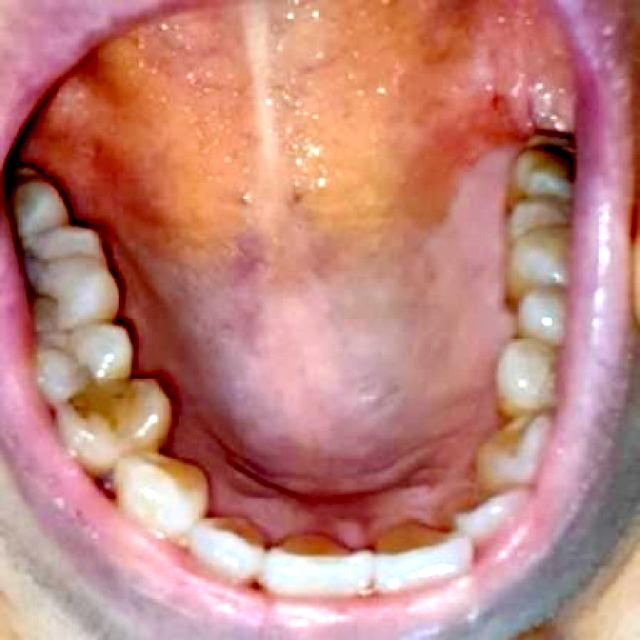Plaque: (29, 279, 67, 311), (22, 243, 60, 274), (63, 392, 97, 425), (107, 386, 131, 404)
